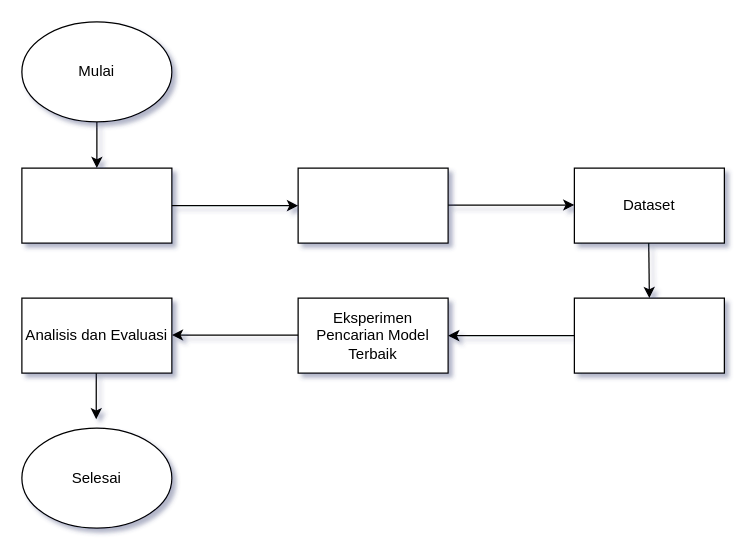
Image size: 754x558. Some labels were removed from this diagram. The shapes that lost their labels are listed below. From the top down, each one's box as (x1, y1, x2, y2) in pixels, then its label:
(21, 167, 172, 243): Identifikasi Masalah
(297, 167, 448, 243): Studi Literatur
(573, 297, 724, 373): Pengolahan Citra
